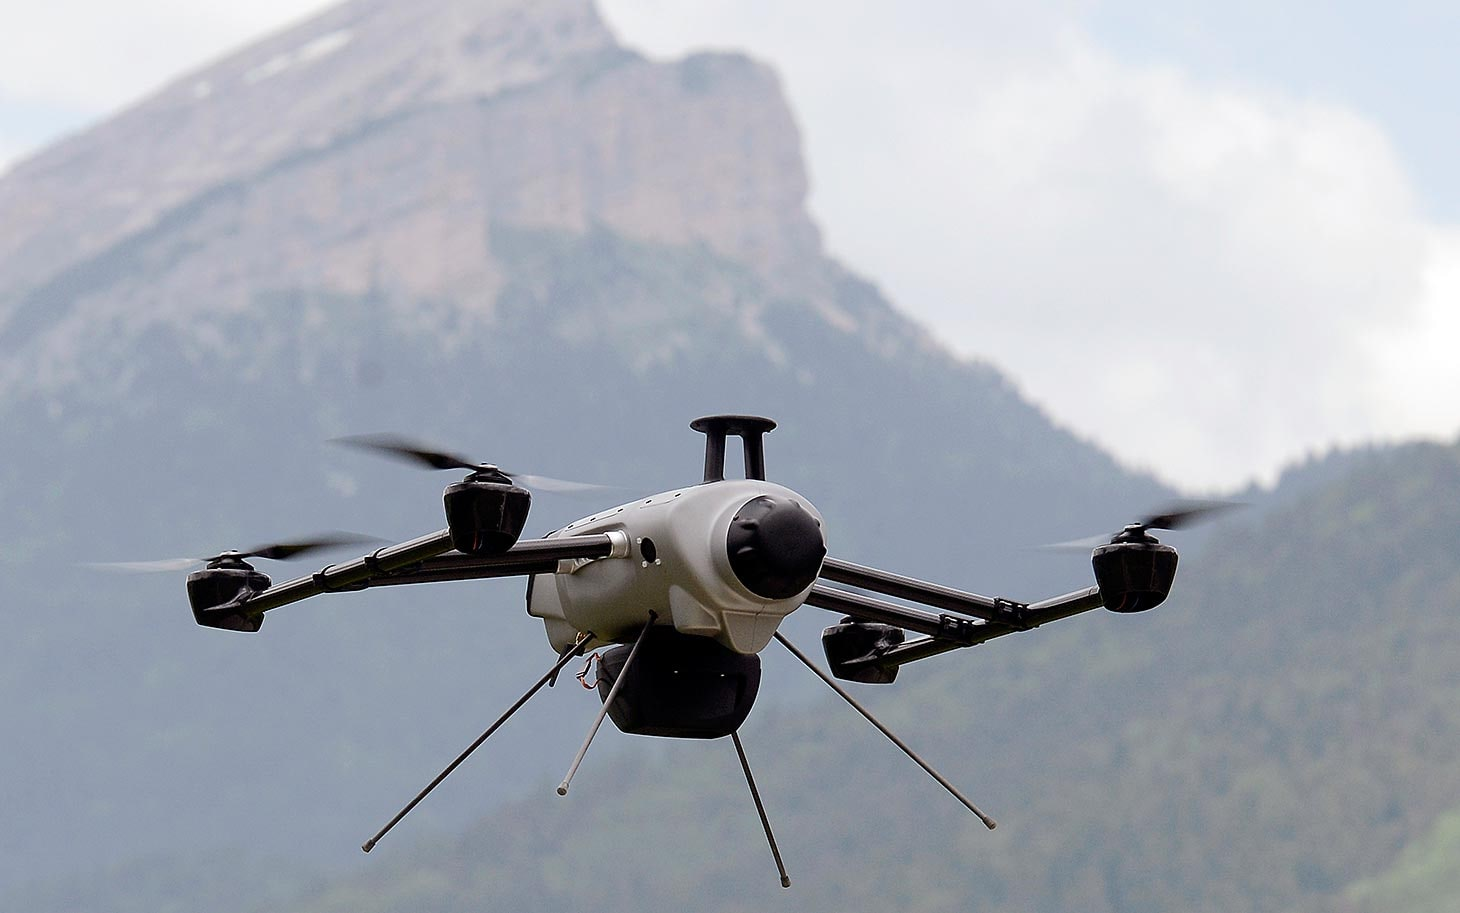drone: (73, 405, 1261, 894)
